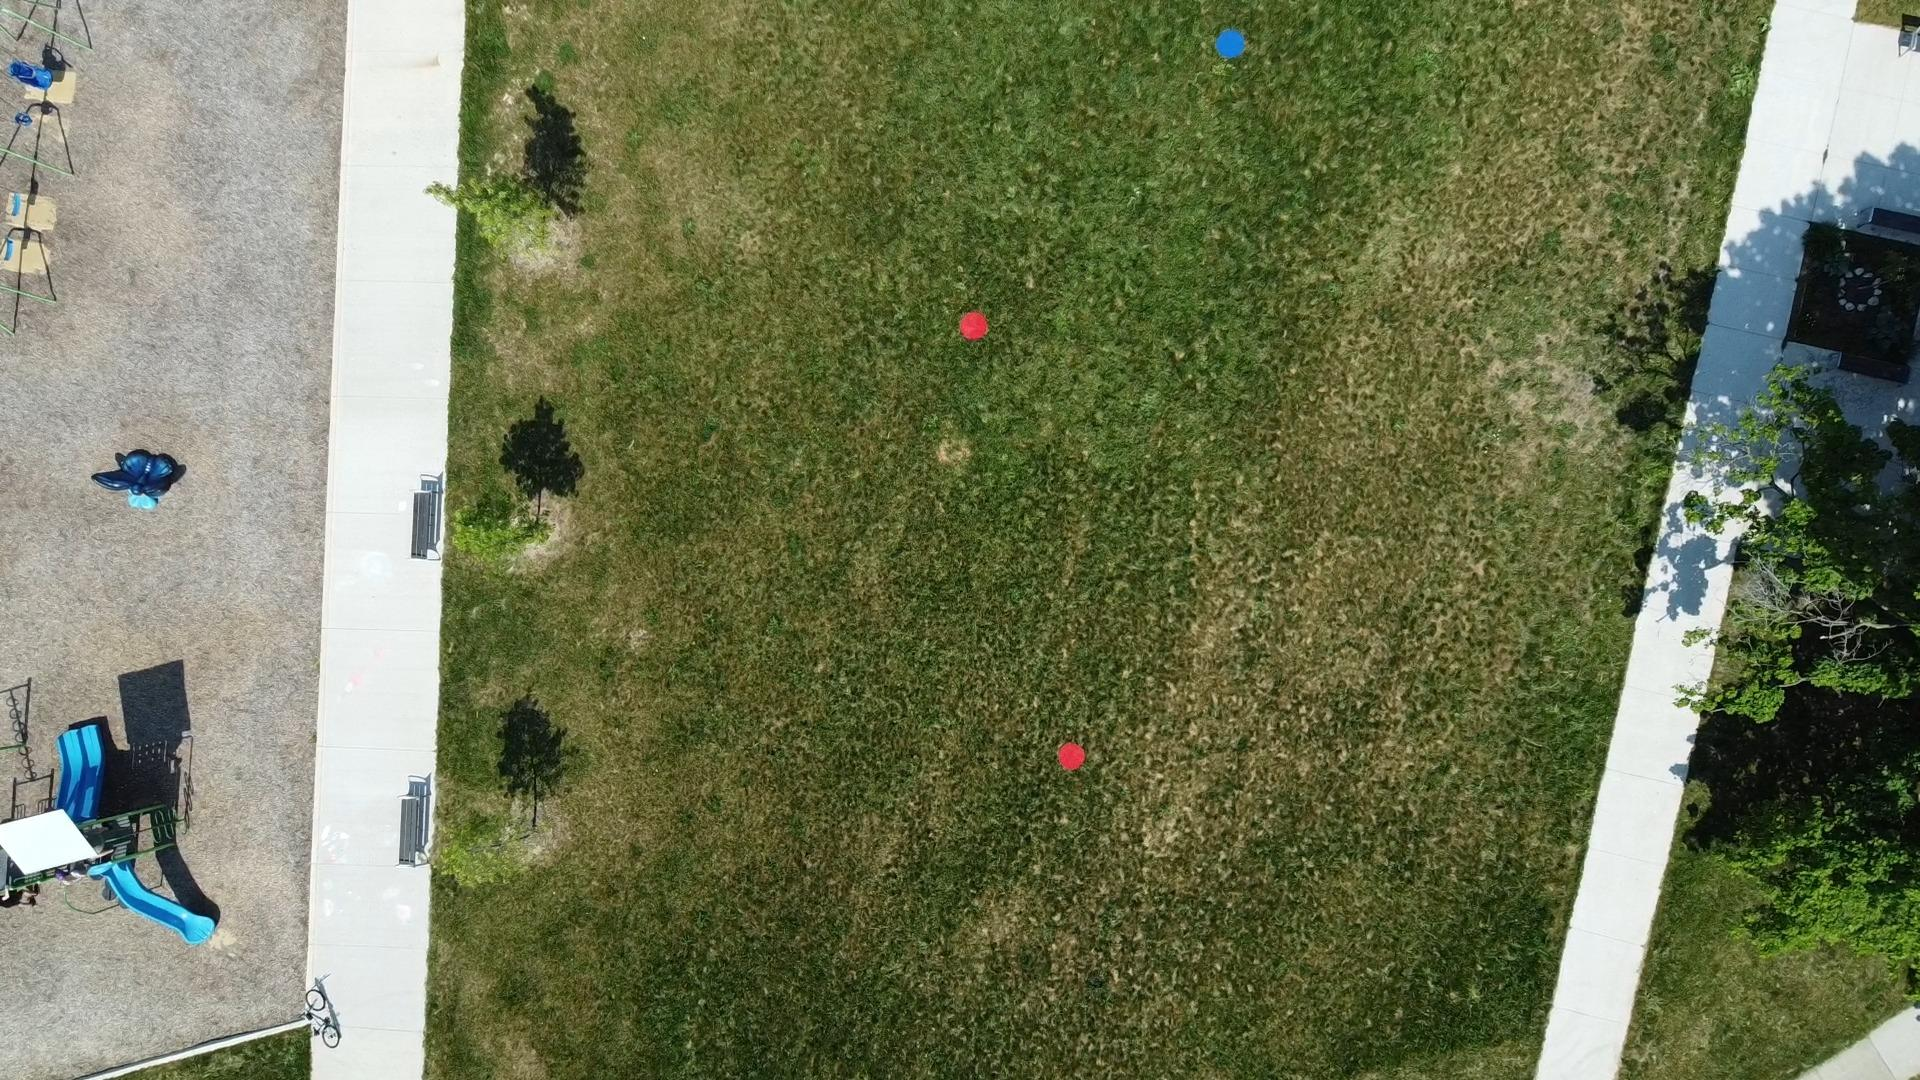Blue: (1215, 29, 1246, 59)
Red: (957, 310, 990, 342), (1058, 741, 1087, 771)
